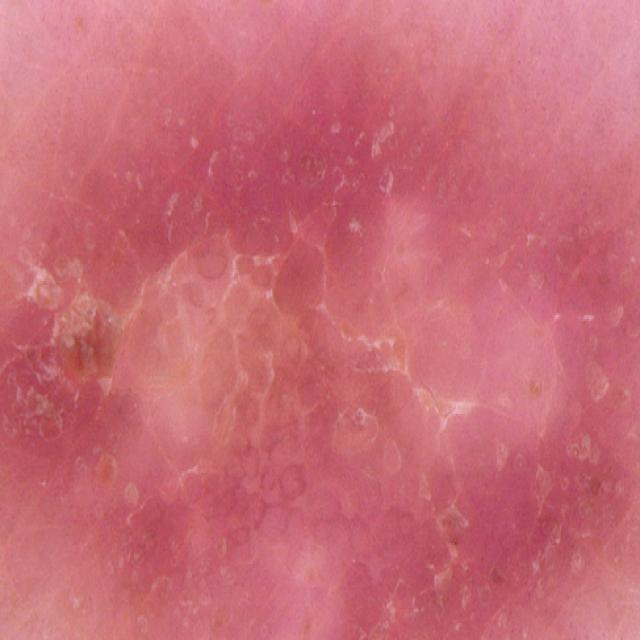Dermatofibroma: (0, 163, 640, 640)
